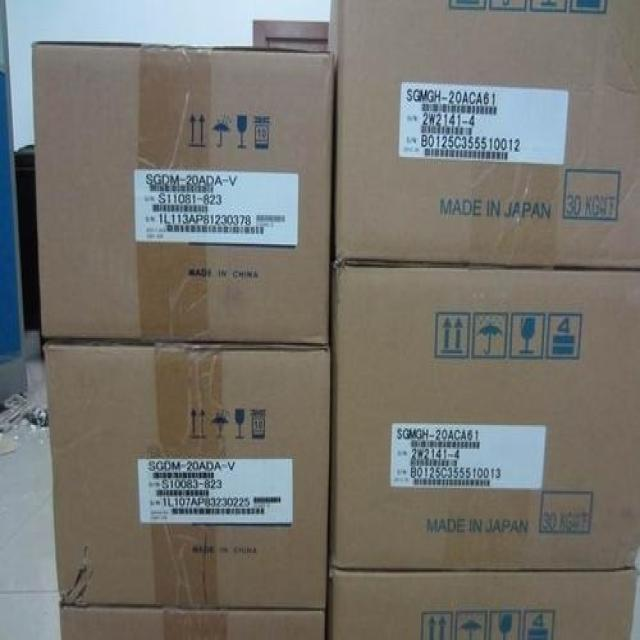box: (327, 263, 639, 565), (33, 40, 329, 343), (327, 1, 638, 271), (45, 336, 330, 607), (326, 566, 636, 638), (58, 604, 328, 637)
